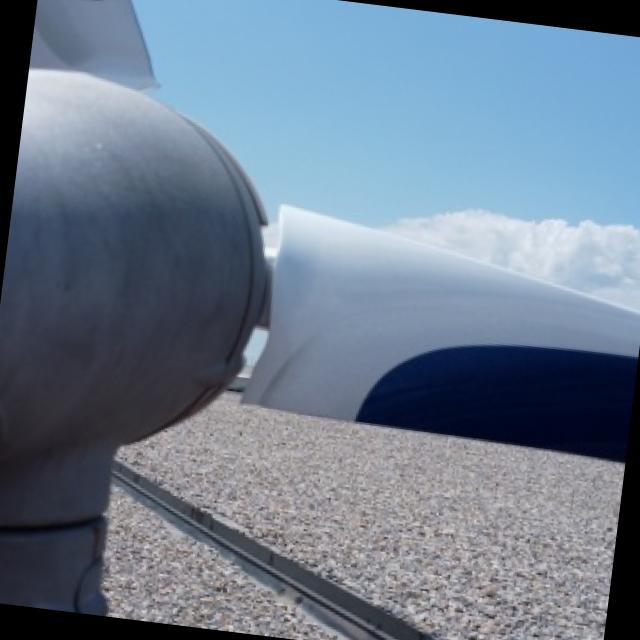healthy: (0, 0, 640, 613)
